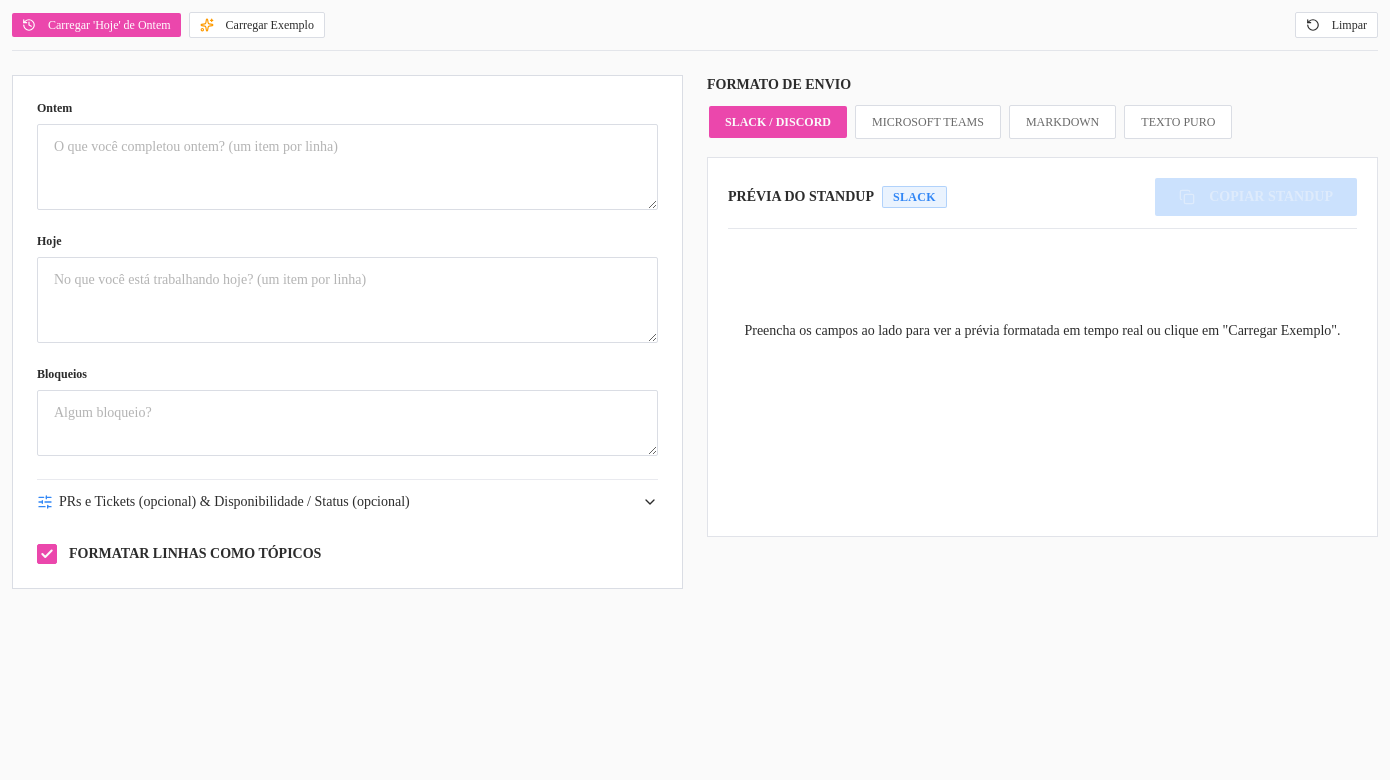
Test: Agile Tools Integration Tests › StandupGeneratorClient › loads realistic example and allows clearing all fields
Step 1. Click the button "Carregar Exemplo" → point(257, 25), box [189,12,325,38]
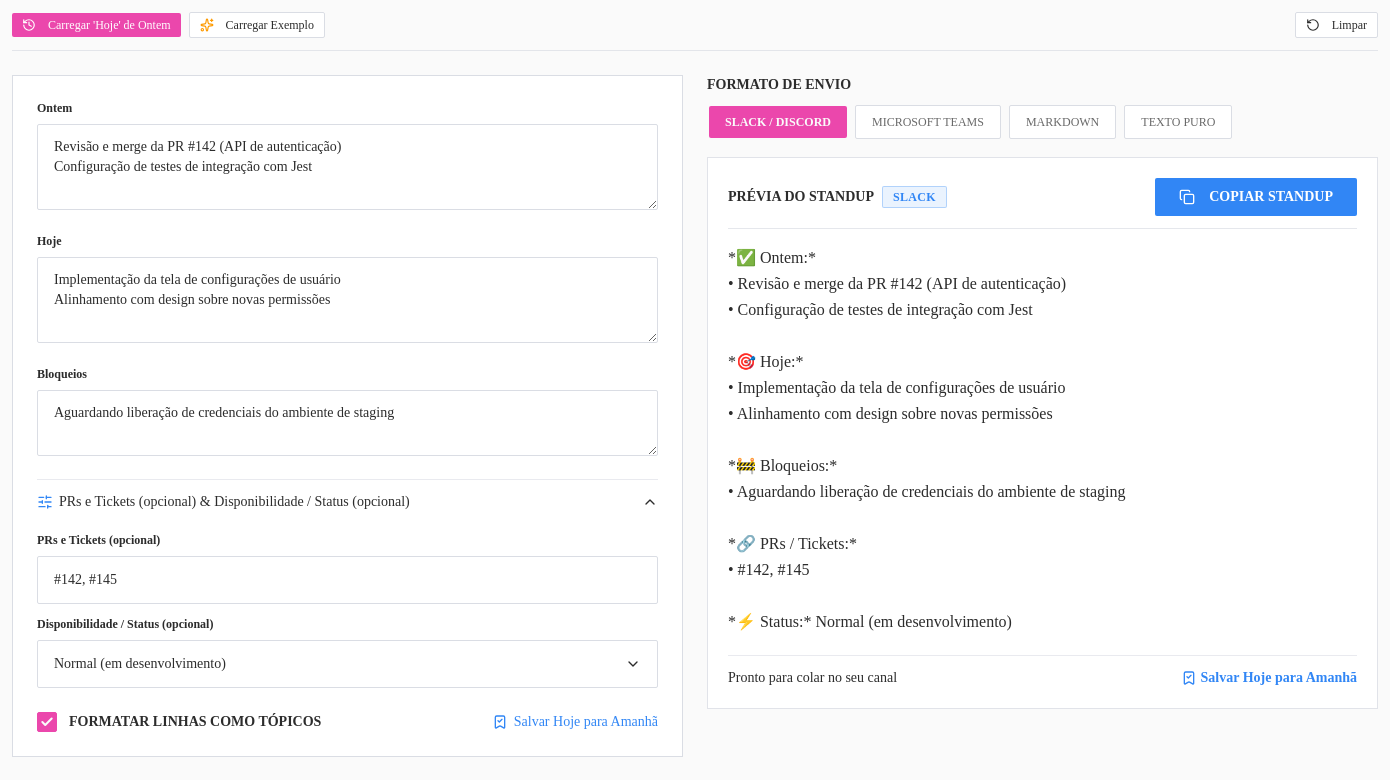
Step 2. Click the button "Limpar" → point(1336, 25), box [1295,12,1378,38]
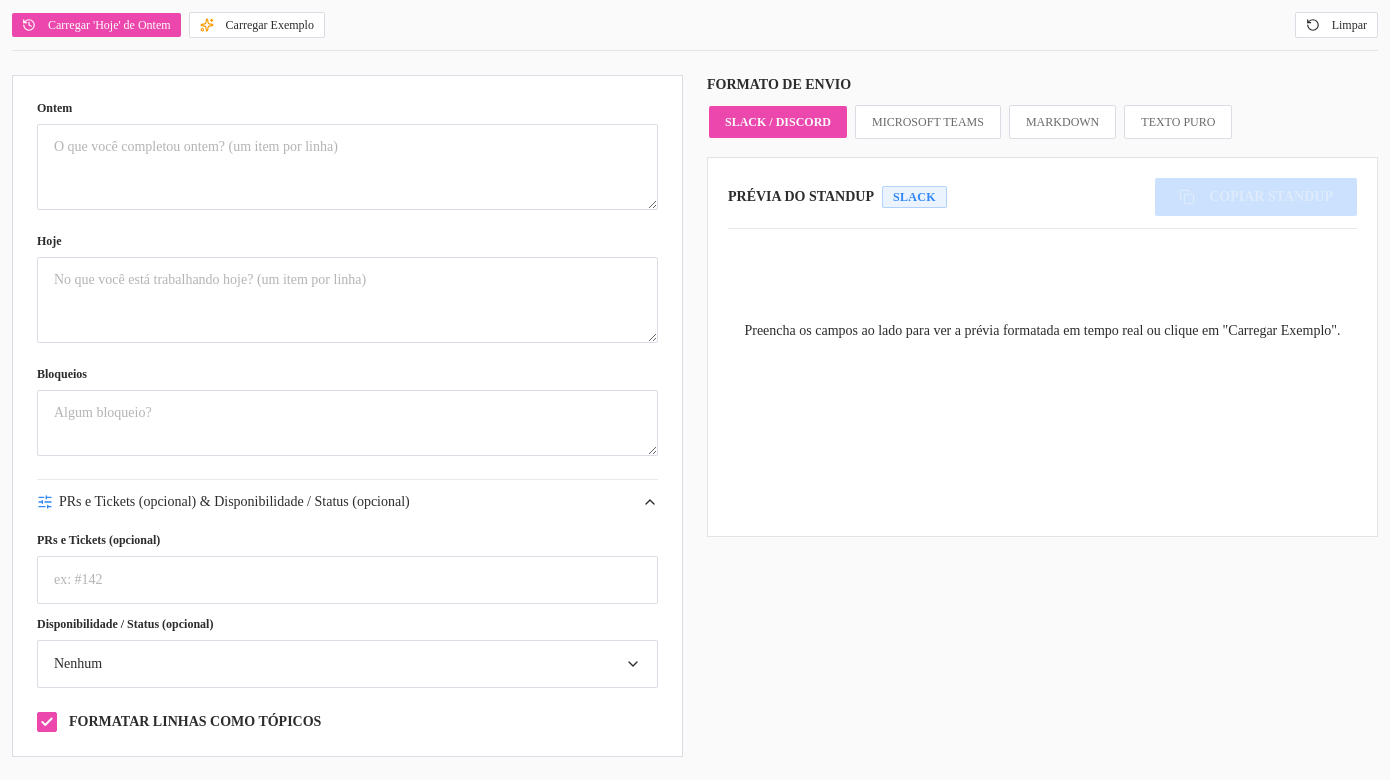
Check: the text box with placeholder "O que você completou ontem? (um item por linha)" is empty, box [37,124,658,210]
